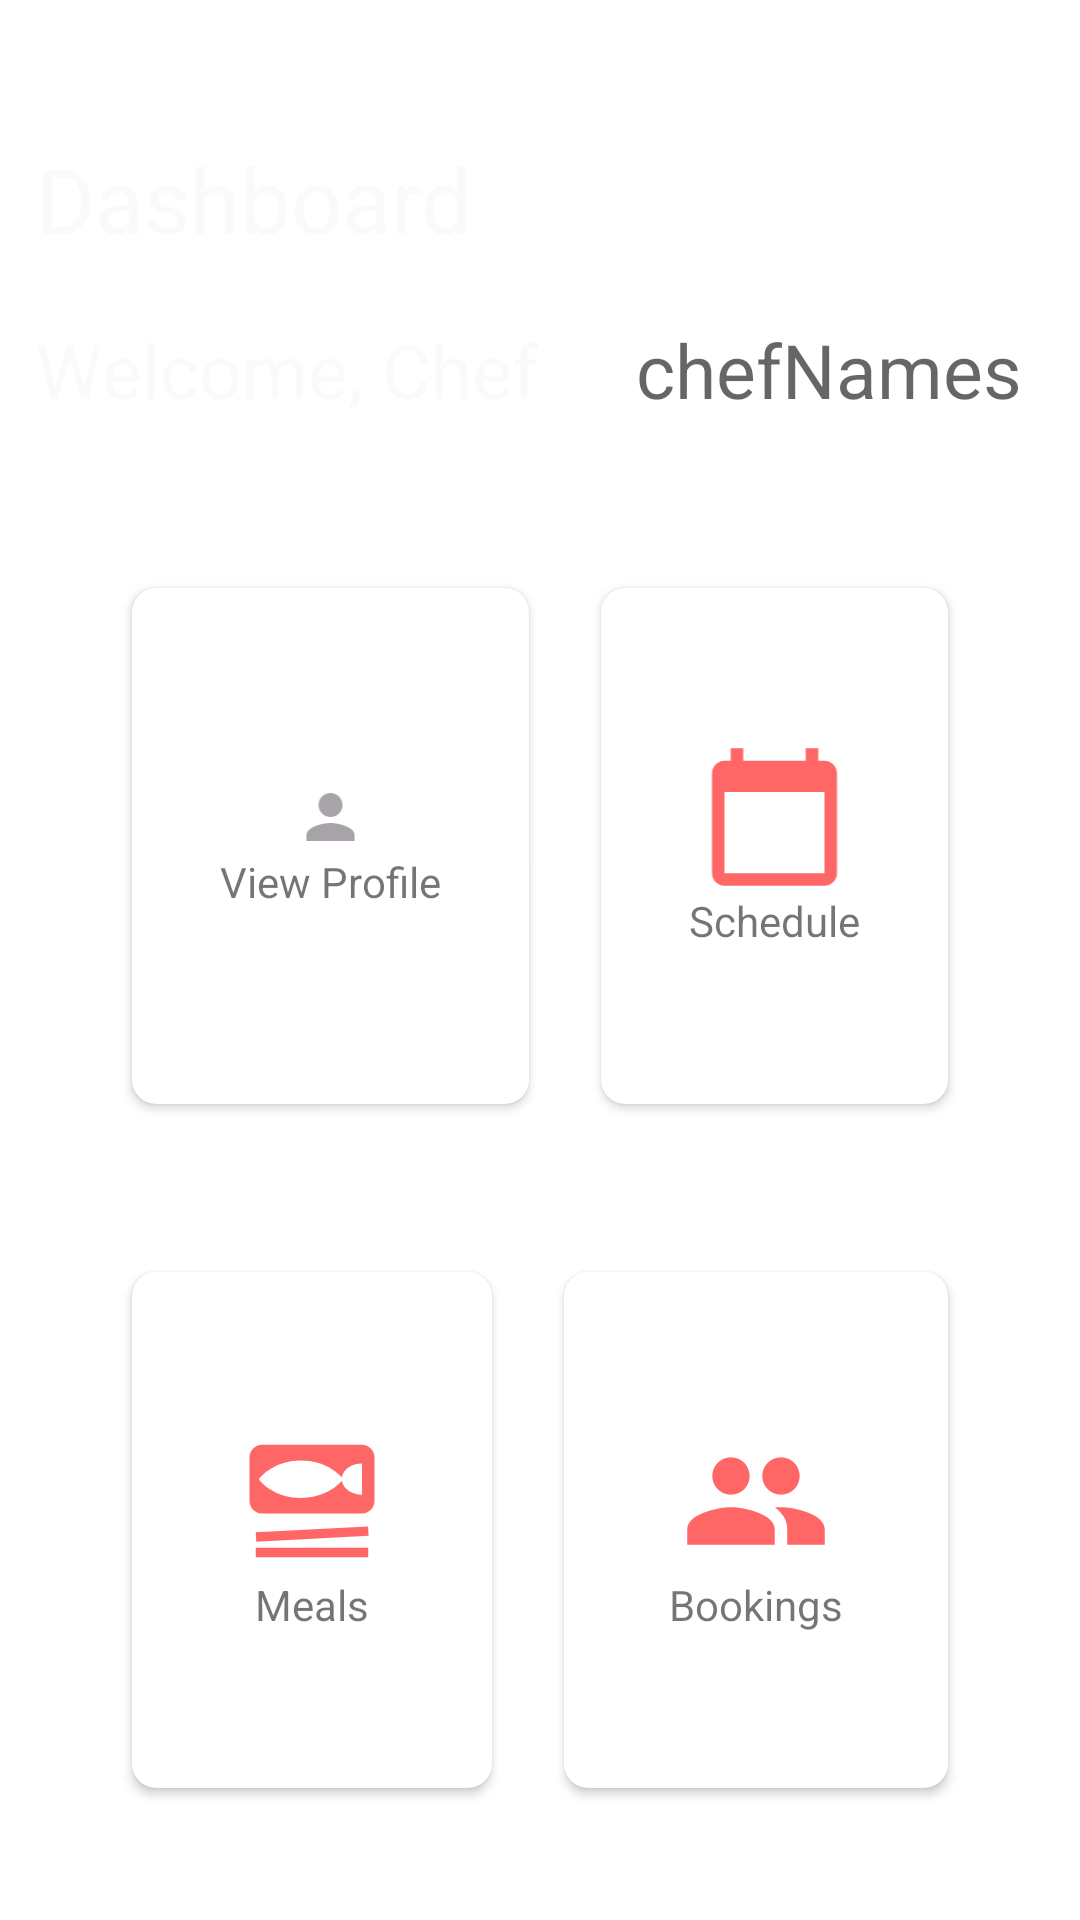

Icon bounding boxes for this 1080 × 1920 phone screenshot, format {"left": x1, "top": y1, "right": x2, "bottom": y2}:
calendar: {"left": 711, "top": 748, "right": 838, "bottom": 886}
people: {"left": 687, "top": 1457, "right": 825, "bottom": 1545}
person: {"left": 306, "top": 793, "right": 355, "bottom": 841}
set meal: {"left": 249, "top": 1444, "right": 375, "bottom": 1558}
